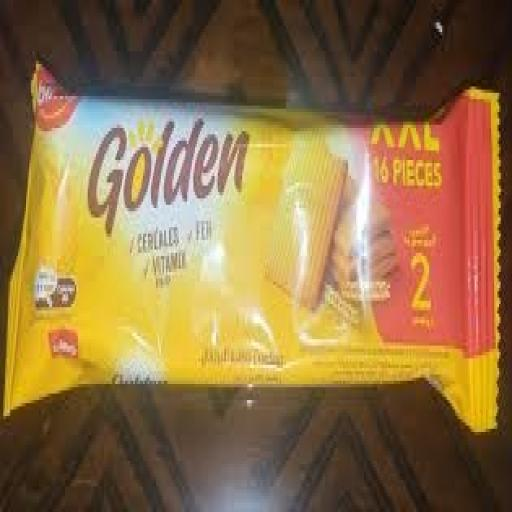golden: (8, 19, 512, 451)
